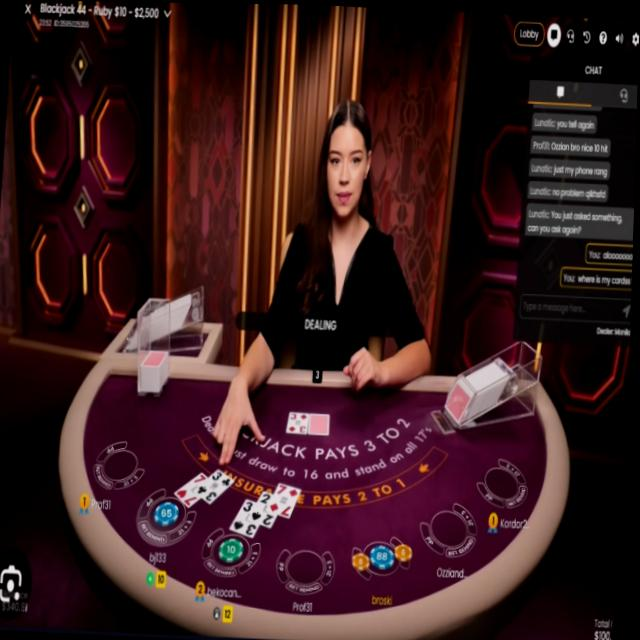Card-2: (251, 490, 280, 526)
Card-3: (198, 468, 237, 504), (233, 498, 262, 537), (289, 409, 311, 432)
Card-7: (177, 470, 210, 507), (270, 482, 303, 517)
